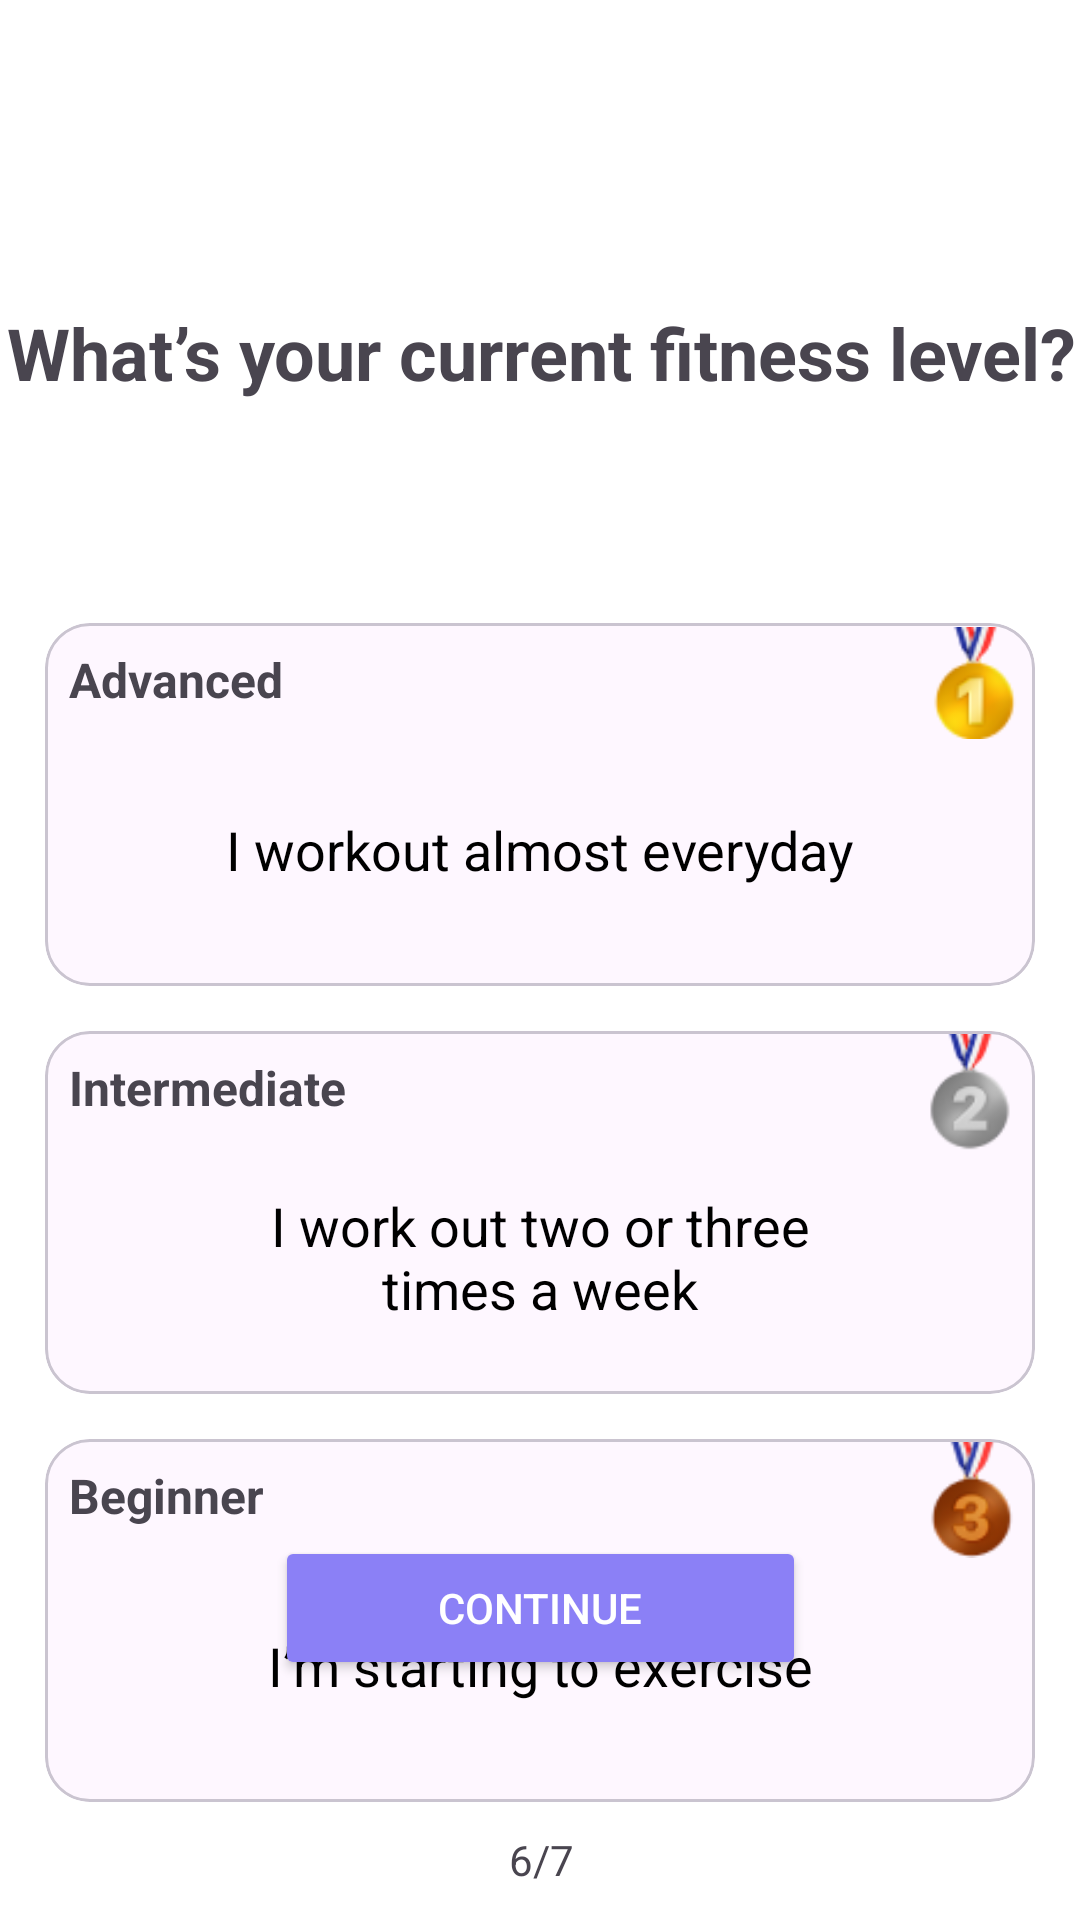

Where icons sit on this 1080px x 1920px app screen, as (x1, y1, x2, y2):
Beginner image: (912, 1439, 1032, 1558)
Gold image: (915, 623, 1035, 743)
Intermediate image: (910, 1031, 1030, 1149)
